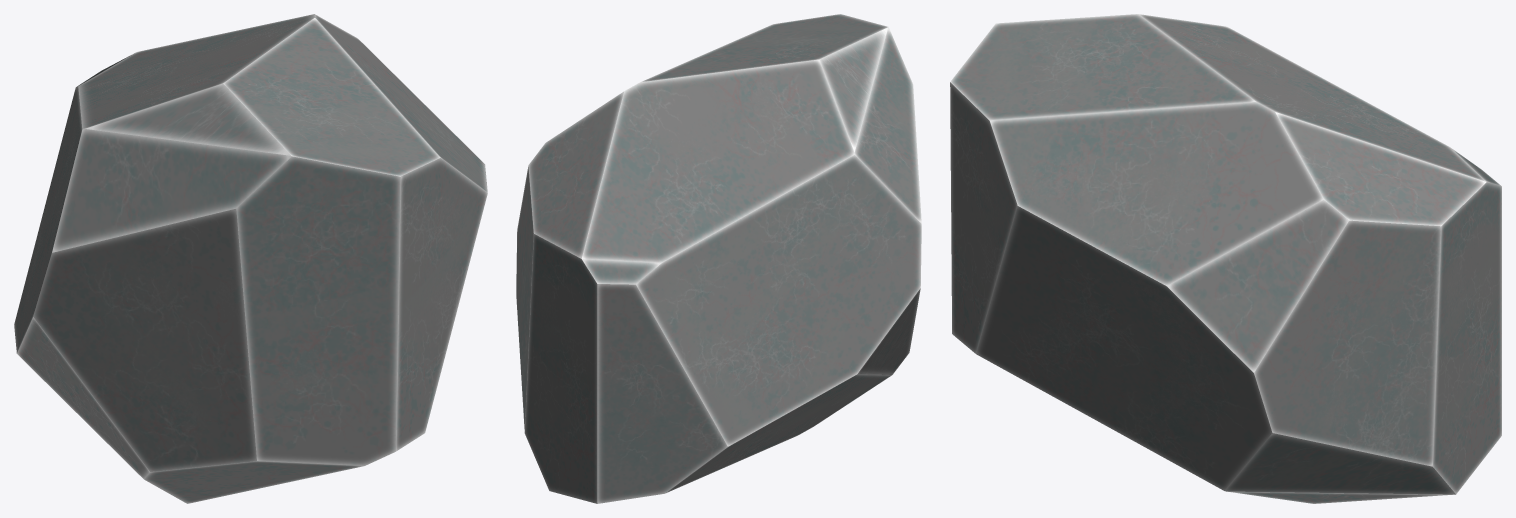
Rendered from UVsten.fbx.
3 views of the same model, side by side, from view 1: azimuth 30°, elevation 25°; view 2: azimuth 150°, elevation 25°; view 3: azimuth 270°, elevation 25° (orthographic). The views are drawn at different scales.
Parts seen in each view (by area): view 1: Sten; view 2: Sten; view 3: Sten.
Part boxes in pixels (x1=…): Sten: x1=14, y1=14, x2=487, y2=503; Sten: x1=516, y1=14, x2=921, y2=503; Sten: x1=950, y1=14, x2=1501, y2=503.
Bounding box in the file's own units: 166 × 156 × 185.
1 material, 1 textured.
